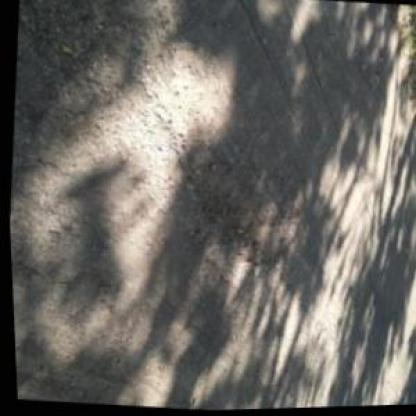pothole: (161, 132, 294, 276)
